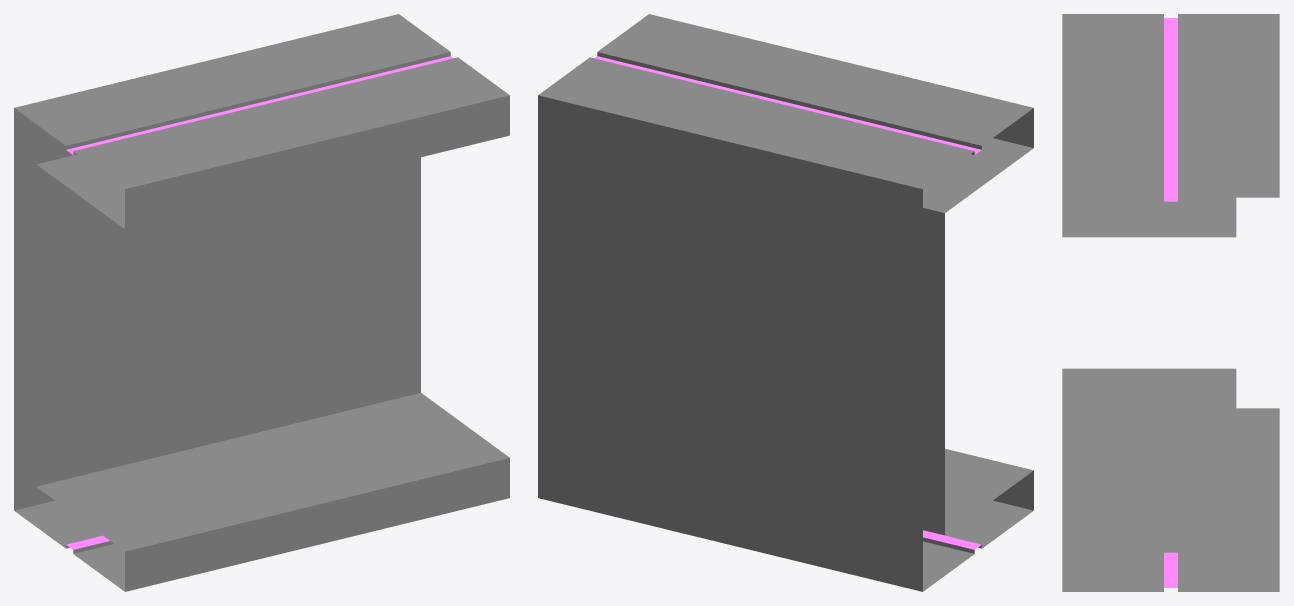
The model's file is HexagonFrameSide.FBX.
3 views of the same model, side by side, from view 1: azimuth 30°, elevation 25°; view 2: azimuth 150°, elevation 25°; view 3: azimuth 270°, elevation 25° (orthographic). The views are drawn at different scales.
Visible parts, largest first — view 1: HexagonFrameSide; view 2: HexagonFrameSide; view 3: HexagonFrameSide.
Part boxes in pixels (box(x1,y1,x2,y2)): HexagonFrameSide: box(14, 14, 509, 591); HexagonFrameSide: box(538, 14, 1033, 591); HexagonFrameSide: box(1062, 14, 1279, 591).
Bounding box in the file's own units: 100 × 100 × 50.
